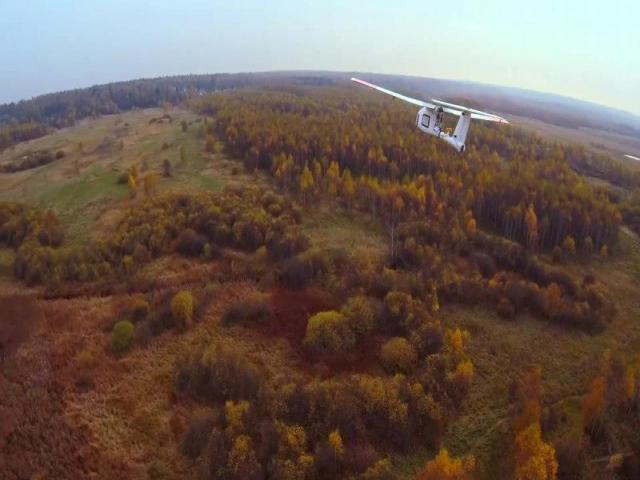hedef: (348, 62, 501, 161)
